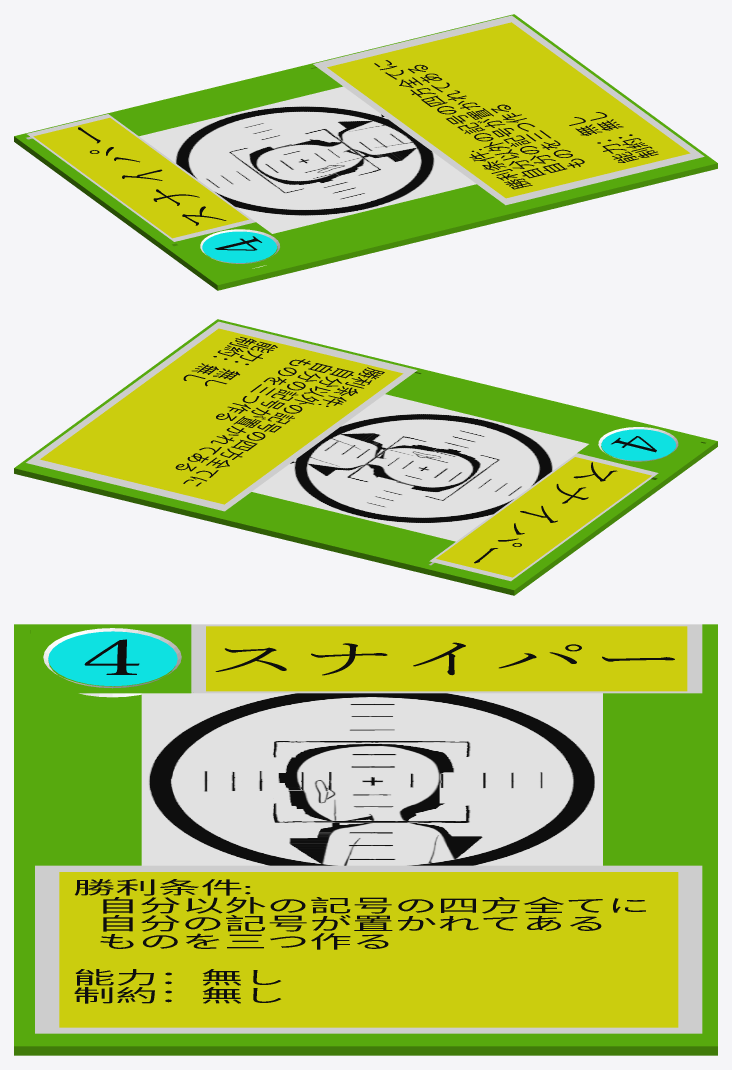
Rendered from スナイパー緑.fbx.
3 views of the same model, one above another, from view 1: azimuth 30°, elevation 25°; view 2: azimuth 150°, elevation 25°; view 3: azimuth 270°, elevation 25° (orthographic). The views are drawn at different scales.
Visible parts, largest first — view 1: 説明欄, 平面.001, カード本体.001, 名前欄, 説明文, 円, 平面, 名前; view 2: 説明欄, 平面.001, カード本体.001, 名前欄, 説明文, 円, 平面, 名前; view 3: 説明欄, 平面.001, カード本体.001, 名前欄, 説明文, 平面, 円, 名前, コスト蘭.
Part boxes in pixels (x1,y1,x2,y2): 説明欄: [313, 15, 704, 205]; 平面.001: [139, 86, 476, 233]; カード本体.001: [14, 14, 717, 290]; 名前欄: [27, 114, 255, 241]; 説明文: [374, 60, 658, 189]; 円: [202, 231, 276, 262]; 平面: [174, 222, 302, 275]; 名前: [78, 127, 226, 225]; 説明欄: [26, 321, 417, 511]; 平面.001: [252, 394, 588, 541]; カード本体.001: [14, 319, 717, 595]; 名前欄: [429, 453, 658, 581]; 説明文: [175, 337, 384, 486]; 円: [601, 429, 675, 460]; 平面: [577, 419, 704, 472]; 名前: [474, 462, 617, 563]; 説明欄: [35, 865, 702, 1033]; 平面.001: [141, 693, 602, 865]; カード本体.001: [14, 624, 717, 1055]; 名前欄: [191, 624, 702, 693]; 説明文: [74, 879, 645, 1003]; 平面: [30, 624, 191, 693]; 円: [48, 631, 177, 686]; 名前: [215, 642, 674, 675]; コスト蘭: [43, 628, 181, 697].
Size of the model in its own units: 281 by 6.07 by 198.
